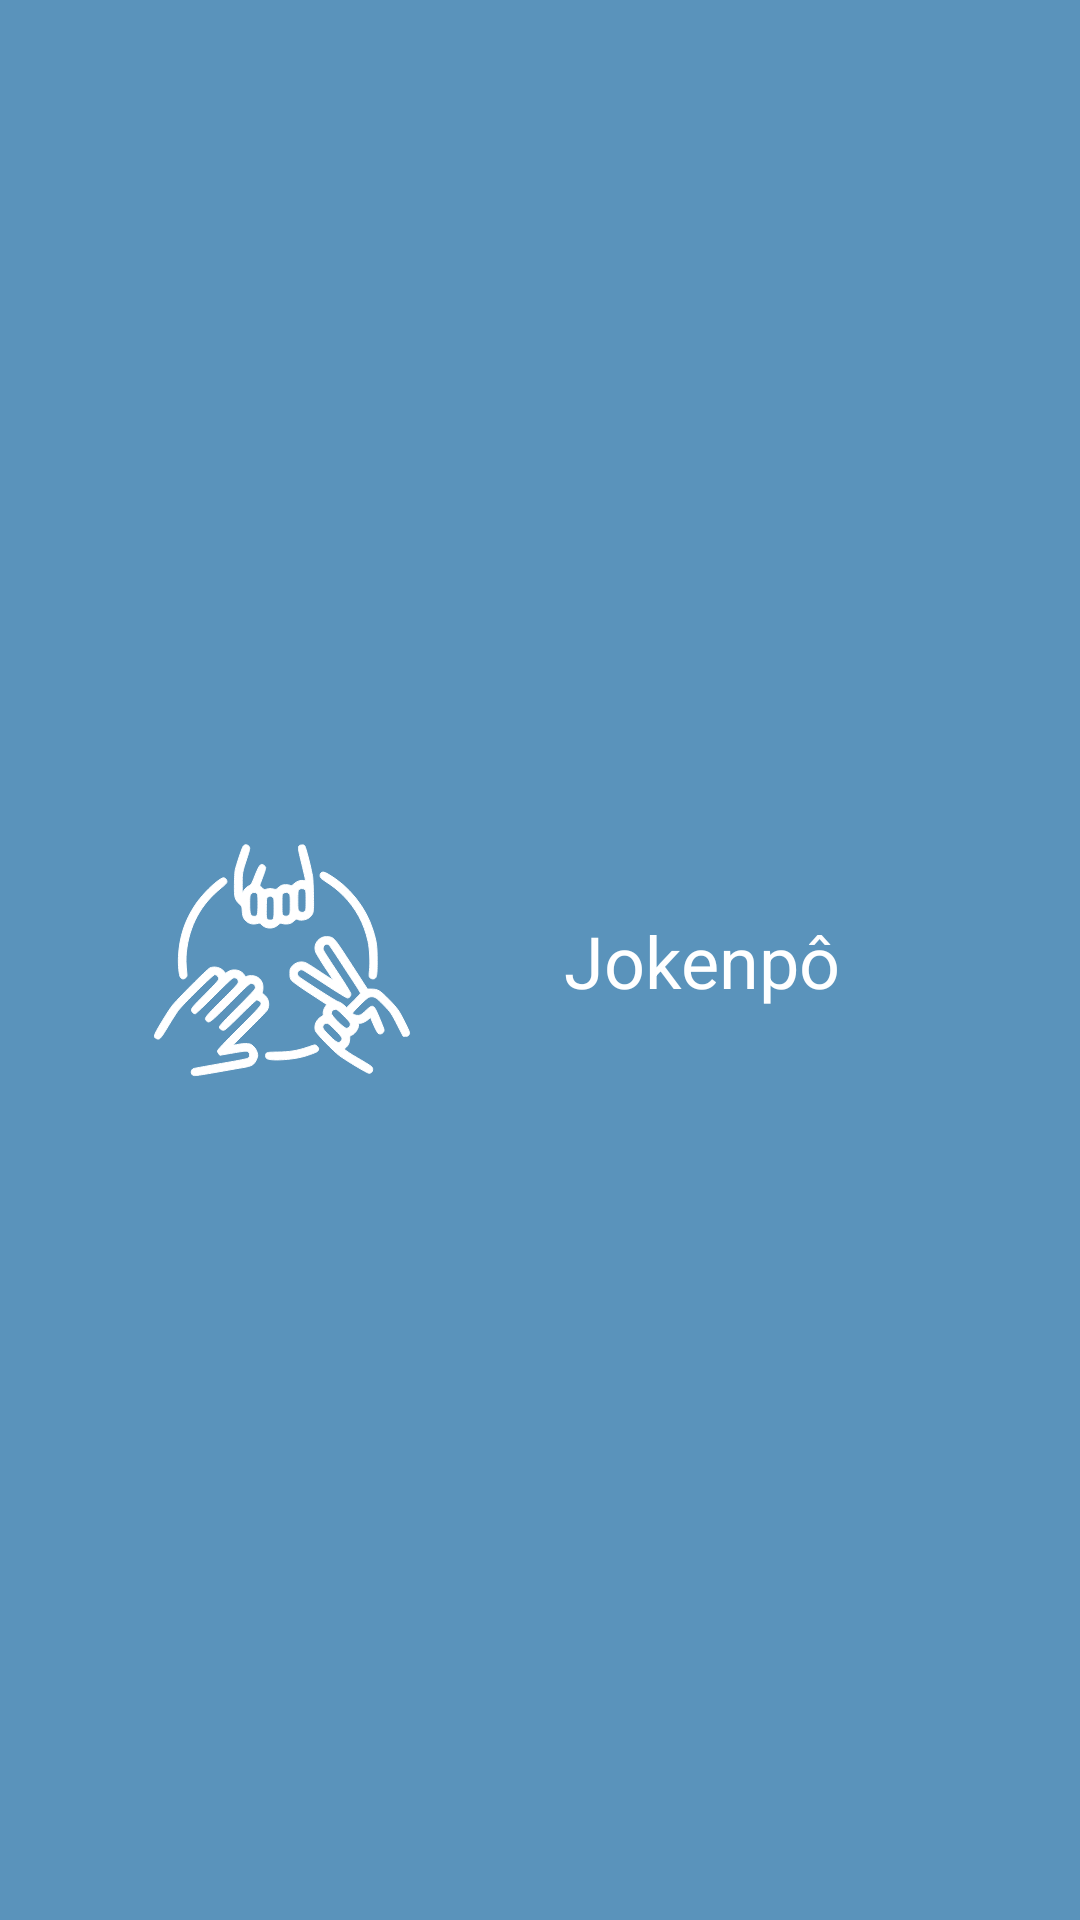

Point at icon controls on the screen. Image size 1080 x 1920, points as (x=x, y=y).
jokenpo: (x=282, y=960)
